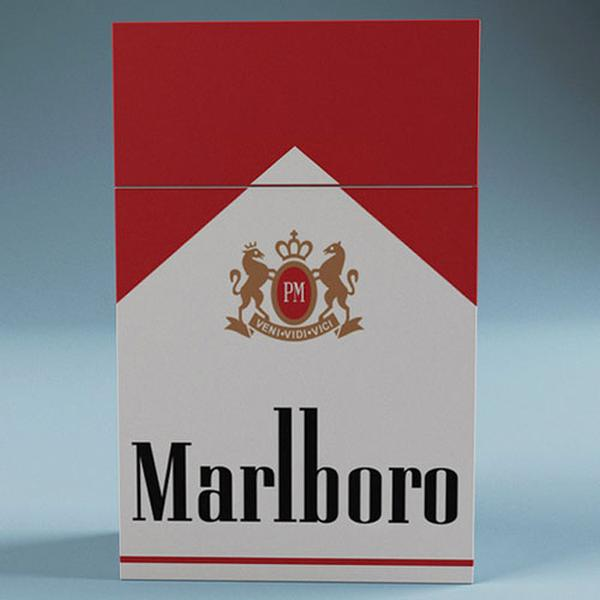marlboro_red: (112, 22, 477, 584)
